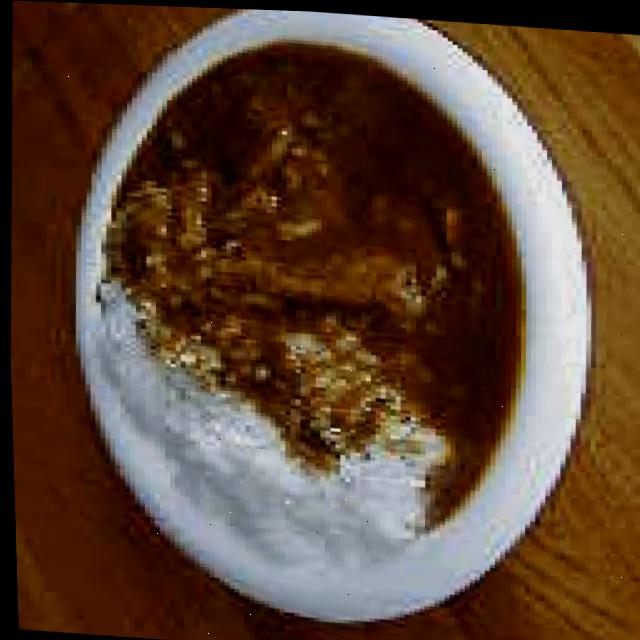牛肉菜式: (40, 1, 601, 640)
